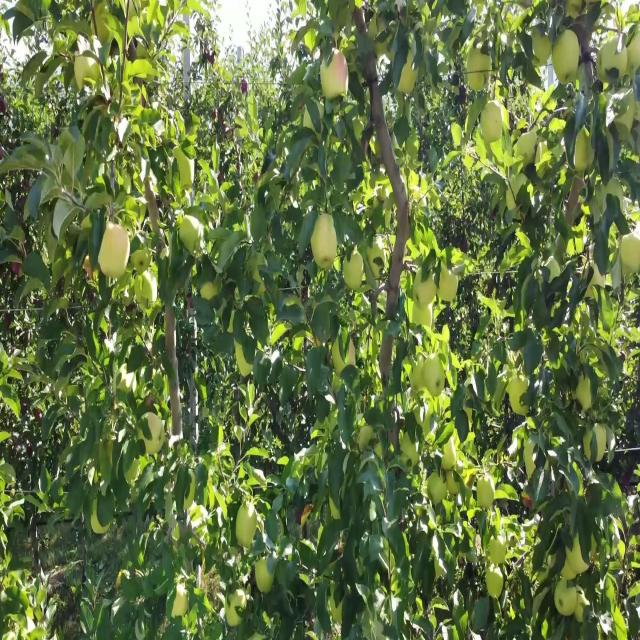apple: (100, 220, 130, 279), (552, 28, 581, 85), (320, 49, 349, 101), (312, 213, 338, 270), (468, 49, 492, 92), (236, 504, 259, 548), (480, 106, 508, 142), (180, 213, 203, 254), (584, 426, 608, 464), (568, 540, 593, 576), (332, 341, 356, 377), (620, 234, 640, 276), (616, 99, 636, 140), (136, 270, 160, 304), (80, 56, 103, 91), (344, 255, 365, 292), (112, 270, 136, 300), (576, 135, 594, 174), (228, 590, 247, 626), (256, 561, 275, 596), (400, 56, 417, 94), (440, 270, 459, 304), (200, 277, 222, 304), (468, 49, 491, 73), (228, 597, 247, 626), (620, 7, 640, 34), (132, 248, 151, 276), (84, 255, 102, 284), (236, 348, 253, 377), (628, 35, 640, 75), (616, 49, 631, 80), (536, 35, 552, 64), (172, 590, 188, 619), (304, 28, 321, 53), (468, 71, 488, 92), (92, 511, 109, 535), (376, 37, 391, 62), (368, 14, 383, 39), (368, 241, 384, 263), (476, 135, 488, 164), (408, 298, 419, 325), (208, 476, 216, 512), (564, 561, 576, 583), (384, 42, 396, 64), (80, 213, 93, 233), (372, 135, 383, 158), (408, 170, 420, 190), (76, 63, 84, 92), (452, 127, 463, 148), (568, 7, 582, 21), (576, 604, 584, 624), (420, 177, 428, 197), (332, 255, 342, 270), (404, 362, 412, 377), (524, 497, 532, 512), (576, 241, 584, 256), (336, 255, 342, 270)
